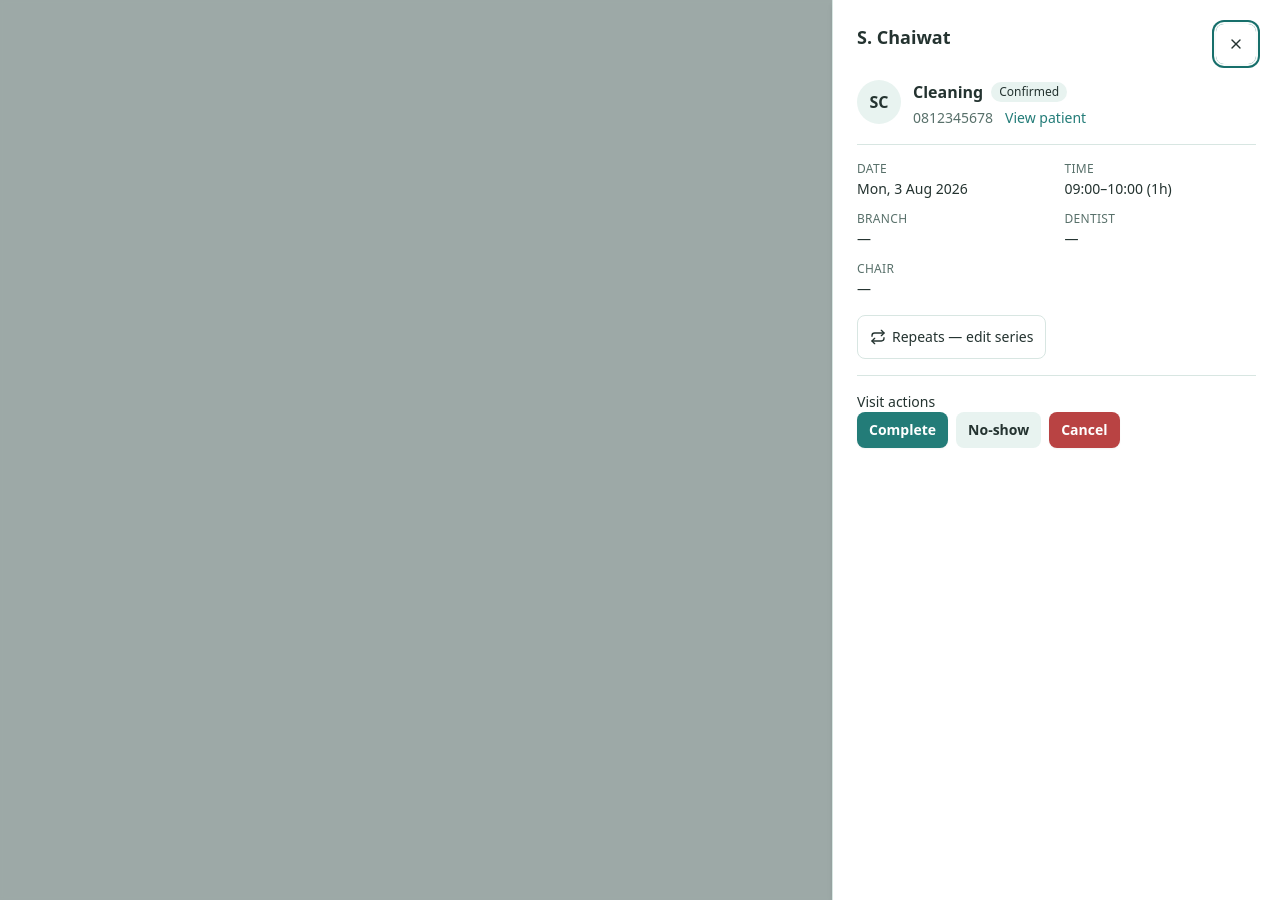
Test: AppointmentDrawer › sends a recurring appointment through the this/following/all dialog, not a plain move
The image size is (1280, 900).
Step 1. Click the button with test id "series-badge" → click(952, 337), box [857, 315, 1046, 359]
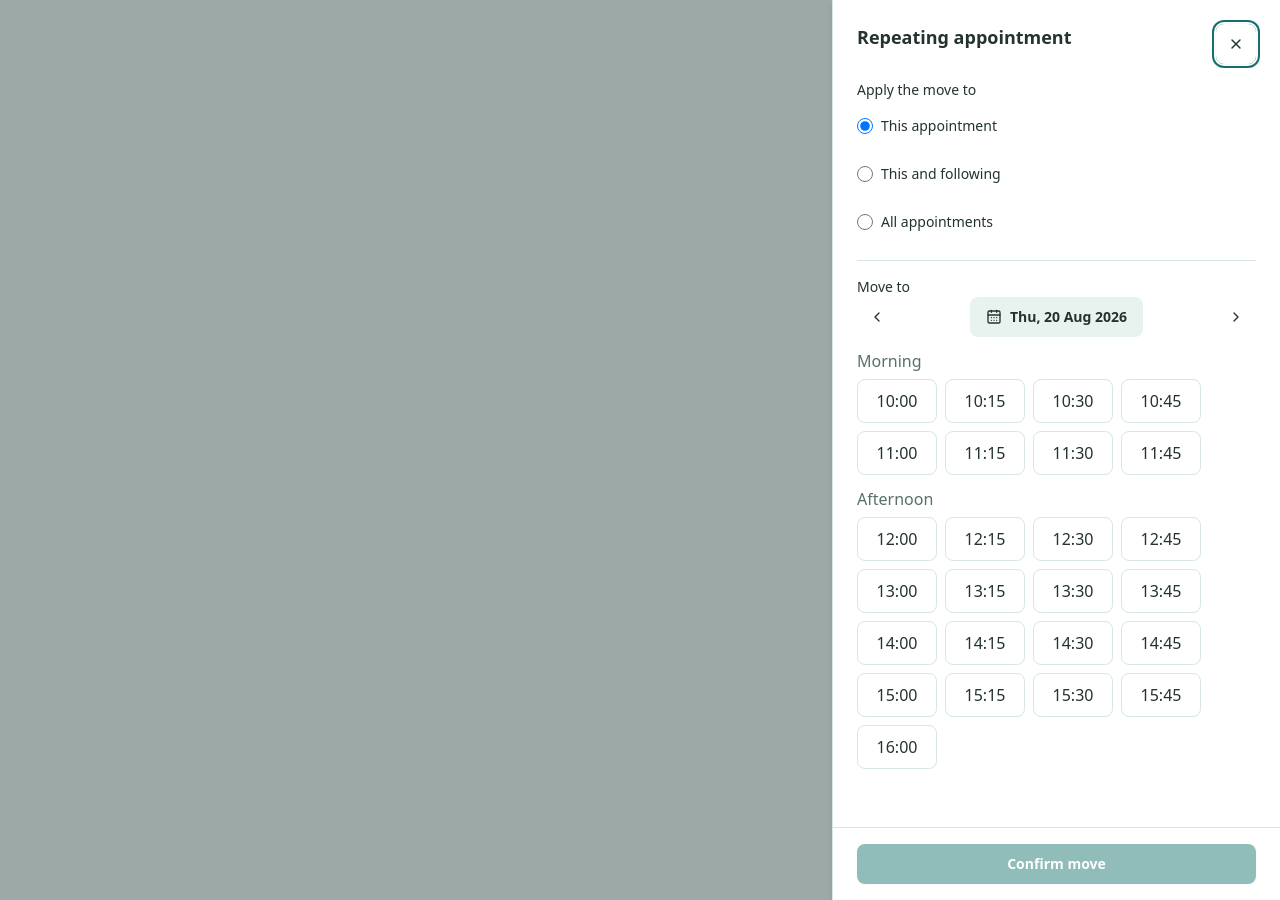
Now the heading "Repeating appointment" is shown, box [857, 24, 1072, 50]
Now the radio button labelled "This appointment" is checked, box [857, 118, 873, 134]
Now the radio button labelled "This and following" is shown, box [857, 166, 873, 182]
